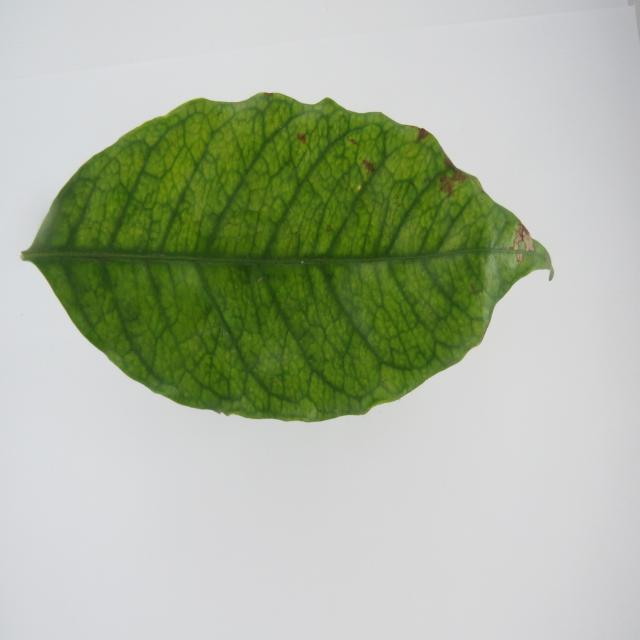DeficienciaNutricional-Calcio: (22, 93, 554, 422)
